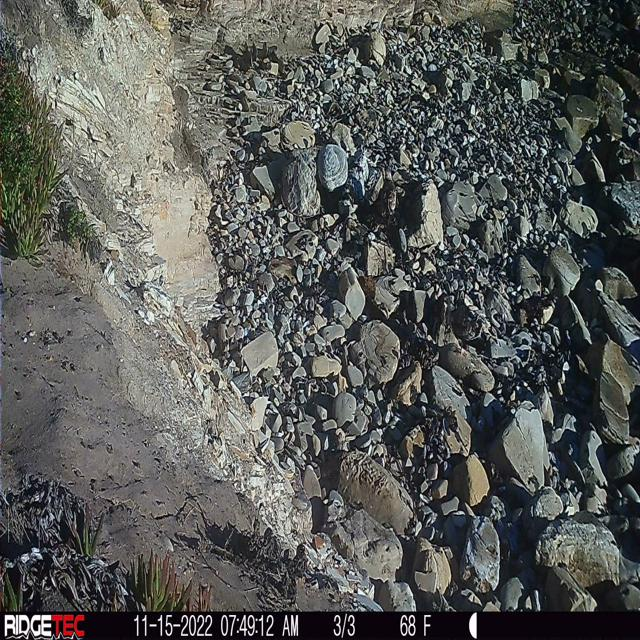bird: (369, 167, 400, 238)
